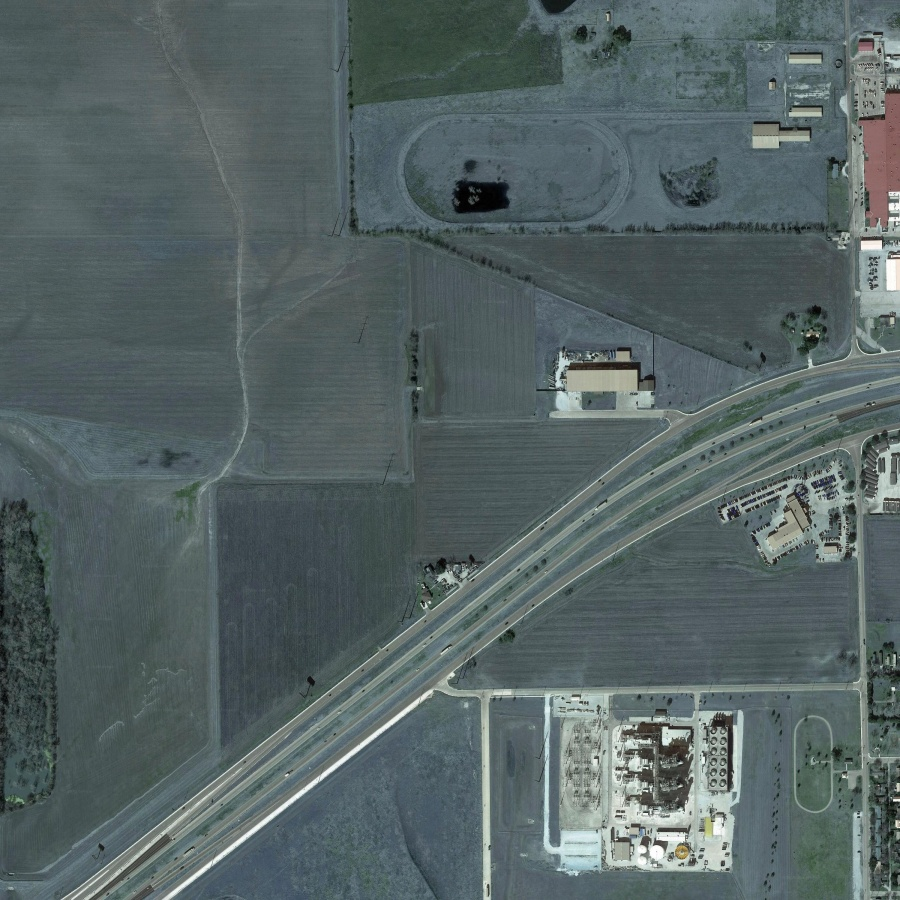PowerPlant: (546, 689, 740, 878)
